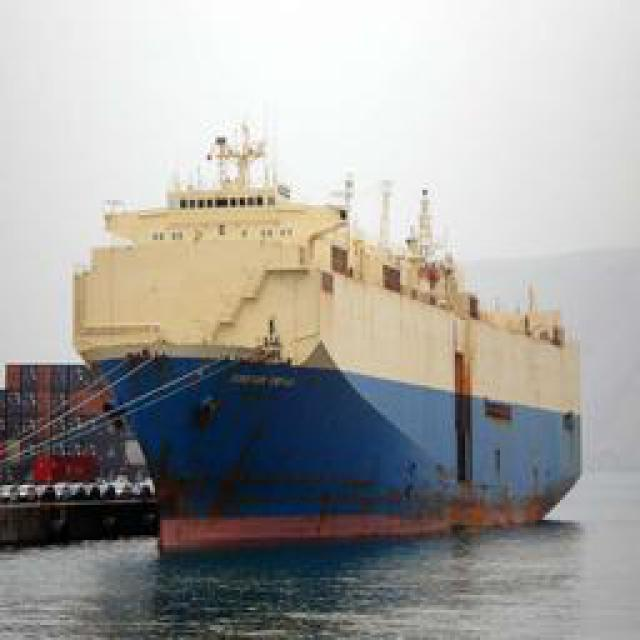Ship: (87, 182, 597, 545)
